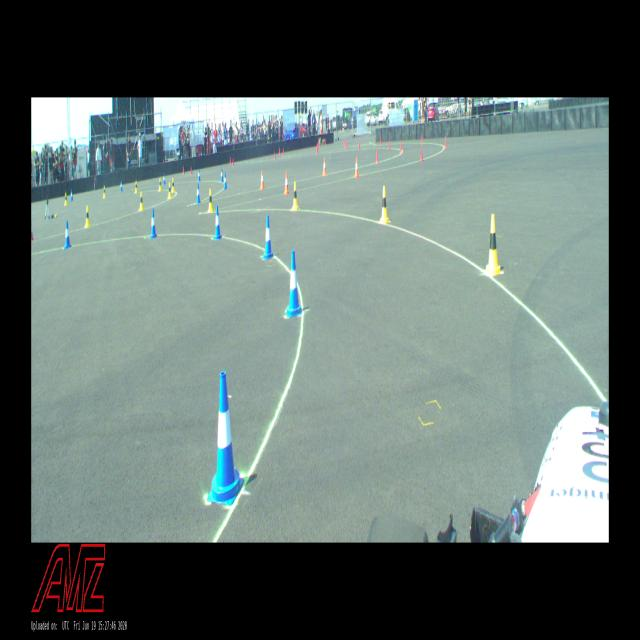blue_cone: (207, 371, 244, 506), (286, 250, 302, 316), (262, 215, 274, 259), (213, 205, 221, 240), (64, 221, 71, 249), (150, 209, 156, 238), (197, 184, 200, 203), (224, 173, 227, 189), (220, 168, 223, 182), (162, 173, 165, 185), (198, 168, 200, 182), (120, 180, 122, 193), (71, 189, 73, 202)
orange_cone: (284, 172, 290, 194), (354, 158, 359, 178), (322, 157, 327, 176), (260, 170, 265, 189)
unknown_cone: (419, 146, 424, 162), (444, 136, 447, 148), (388, 138, 391, 150), (376, 149, 378, 163), (232, 158, 235, 167), (400, 141, 402, 153), (316, 143, 318, 154), (421, 133, 423, 143), (380, 135, 382, 145), (274, 151, 276, 160), (358, 141, 360, 150), (190, 166, 192, 174), (282, 148, 284, 156), (278, 147, 280, 155), (344, 140, 346, 148), (230, 156, 231, 165), (183, 166, 184, 173)
yellow_cone: (483, 213, 504, 274), (378, 186, 391, 224), (291, 182, 300, 210), (84, 206, 91, 227), (208, 189, 214, 212), (139, 191, 144, 211), (168, 182, 172, 198), (158, 177, 162, 192), (64, 192, 68, 205), (172, 177, 175, 192), (134, 180, 137, 193), (103, 185, 106, 198)
